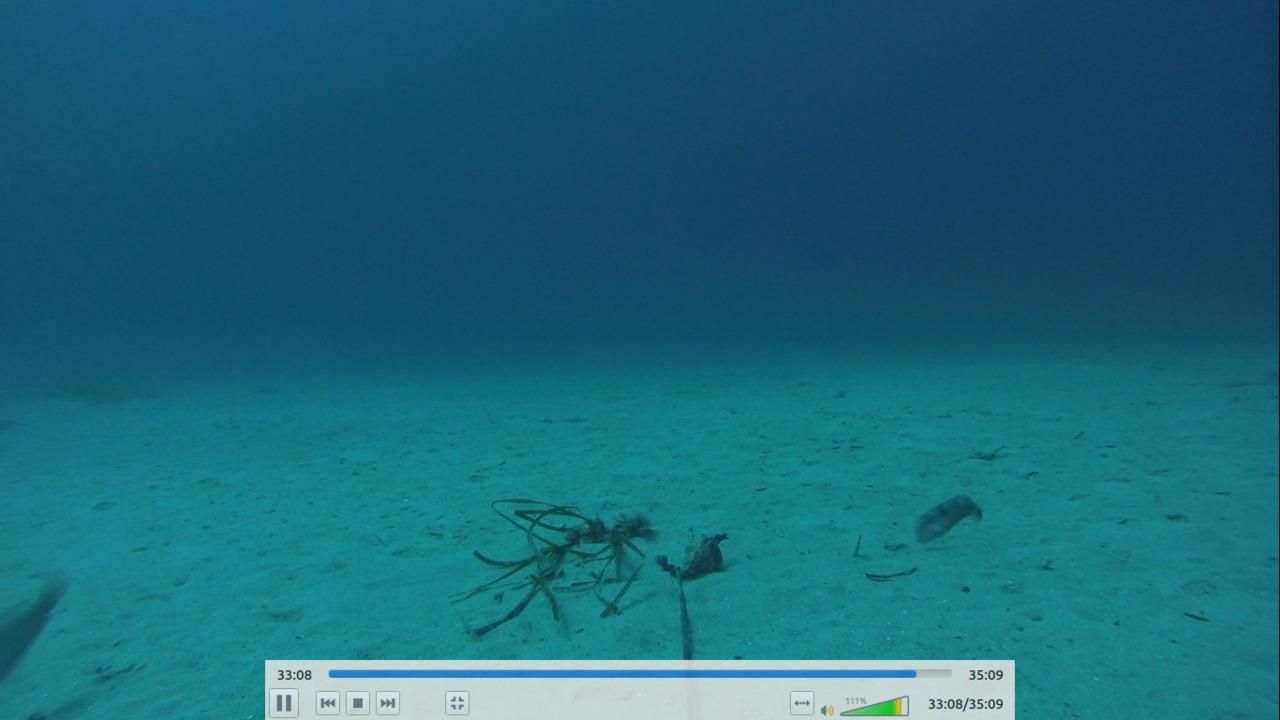raor: (906, 489, 990, 546)
